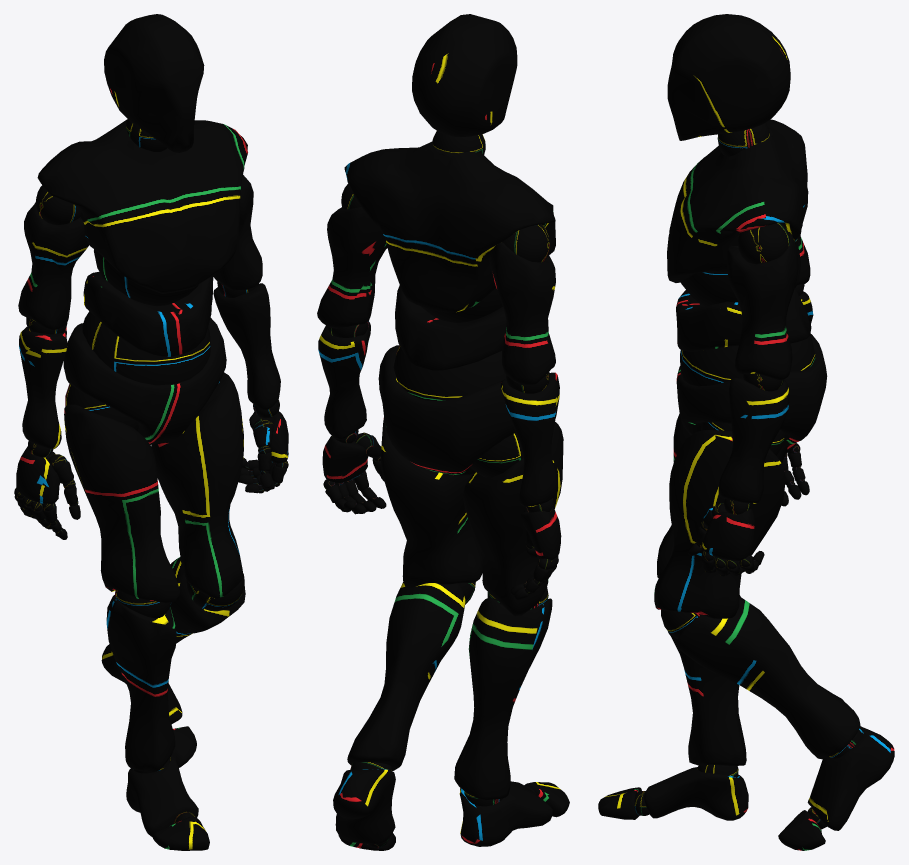
The model's file is y-bot-origin_000012.obj.
The picture shows the model from 3 angles, left to right: view 1: azimuth 30°, elevation 25°; view 2: azimuth 150°, elevation 25°; view 3: azimuth 270°, elevation 25°; orthographic projection. The views are drawn at different scales.
Parts seen in each view (by area): view 1: Alpha_Surface_Alpha_SurfaceMesh, Alpha_Joints_Alpha_JointsMesh; view 2: Alpha_Surface_Alpha_SurfaceMesh, Alpha_Joints_Alpha_JointsMesh; view 3: Alpha_Surface_Alpha_SurfaceMesh, Alpha_Joints_Alpha_JointsMesh.
Boxes of the visible parts, box(x1,y1,x2,y2) form: Alpha_Surface_Alpha_SurfaceMesh: box(14, 14, 288, 850); Alpha_Joints_Alpha_JointsMesh: box(14, 119, 288, 823); Alpha_Surface_Alpha_SurfaceMesh: box(317, 14, 569, 850); Alpha_Joints_Alpha_JointsMesh: box(323, 131, 558, 848); Alpha_Surface_Alpha_SurfaceMesh: box(598, 14, 894, 850); Alpha_Joints_Alpha_JointsMesh: box(634, 122, 860, 829).
Size of the model in its own units: 0.5758 by 1.78 by 0.594.
